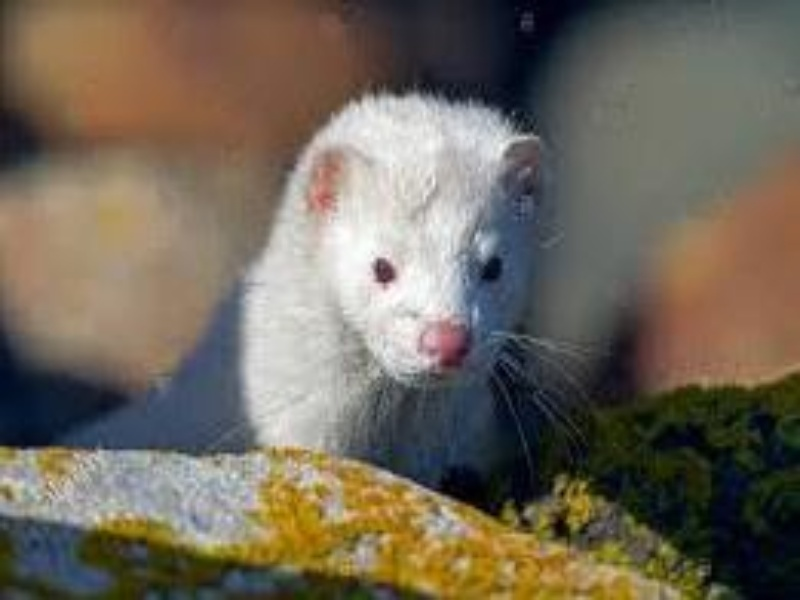minkish: (32, 89, 552, 472)
